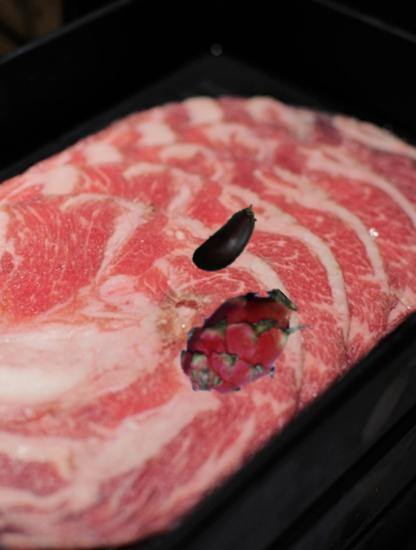Eggplant: (187, 200, 272, 285)
Pitahaya: (173, 276, 306, 409)
